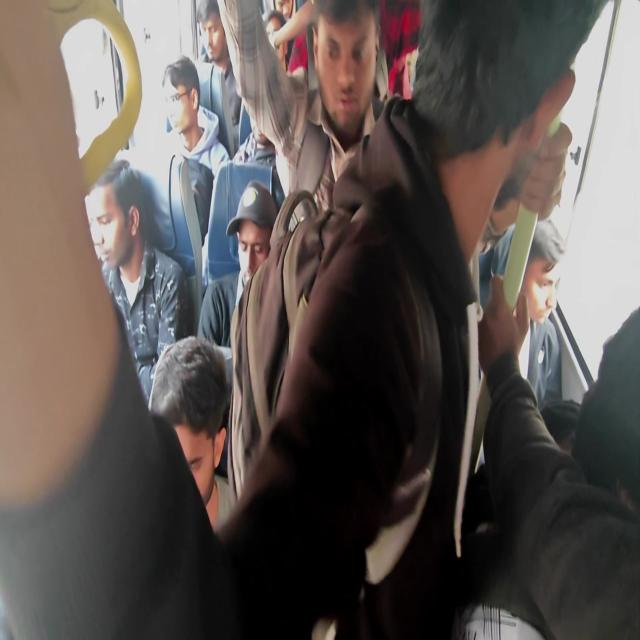person: (430, 6, 581, 218), (574, 335, 640, 586), (149, 346, 237, 513), (306, 0, 386, 131), (78, 169, 154, 268), (512, 224, 558, 327), (232, 194, 274, 297), (162, 63, 198, 144), (195, 0, 227, 59), (256, 13, 286, 75)
